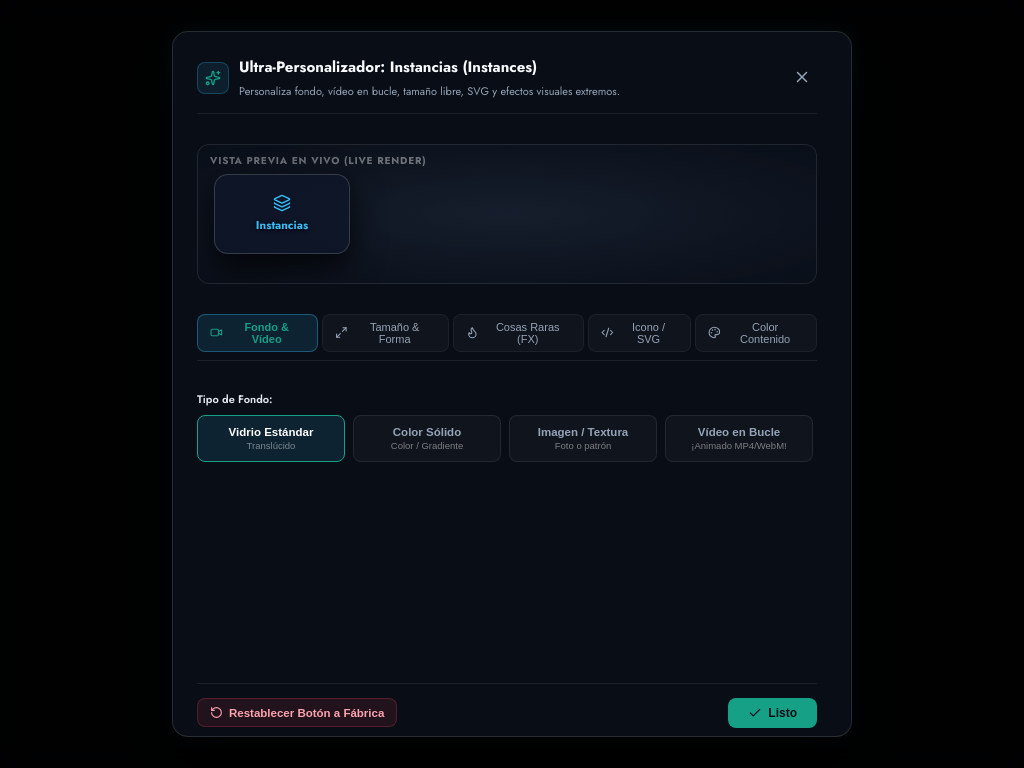
Test: ButtonCustomizerModal & InstancesCreateTab Suite › ButtonCustomizerModal › muestra el botón de subir imagen y campo de URL sin texturas predefinidas en modo Imagen
Click the button "Imagen / Textura Foto o patrón" at (583, 438), box [509,415,657,462]
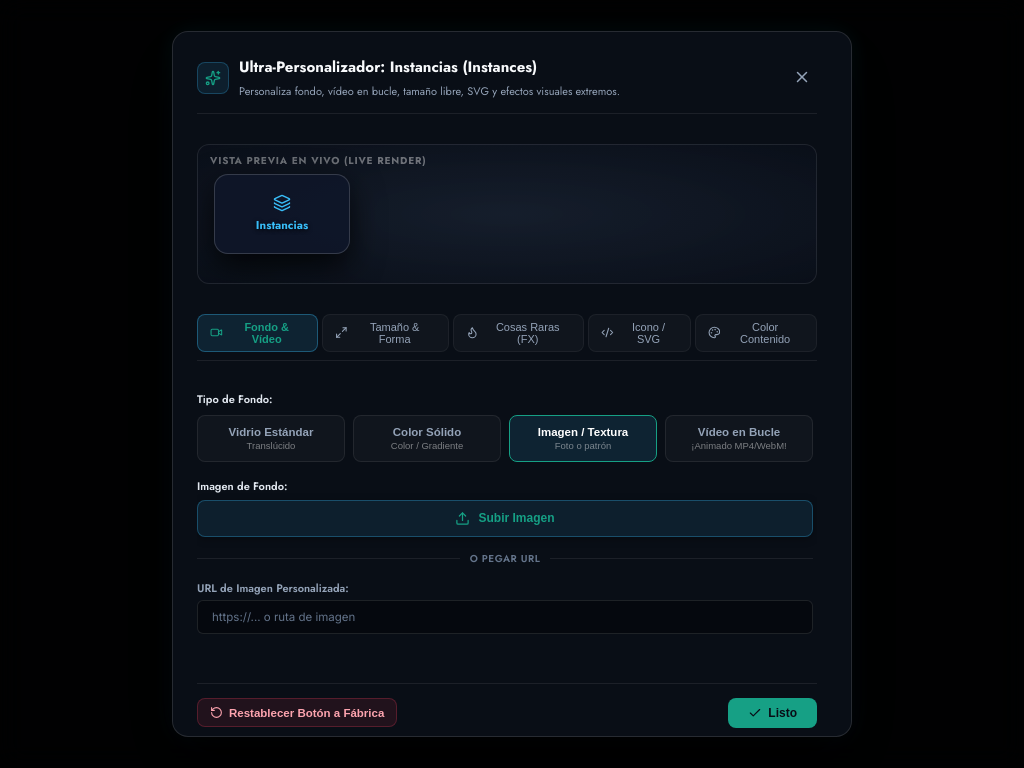
Expected: the button "Subir Imagen" is shown, [197,500,813,537]
Expected: the field named "URL de imagen de fondo" is shown, [197,600,813,634]
